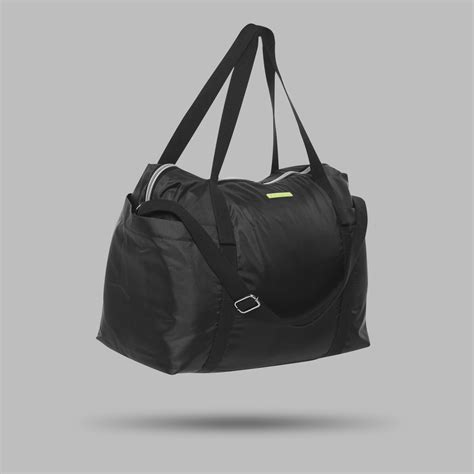nylon: (95, 24, 373, 375)
